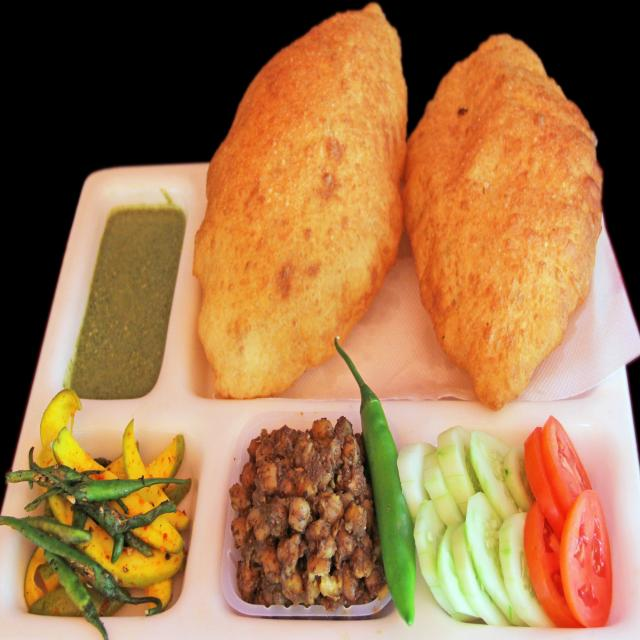Bhatura: (197, 3, 407, 400), (404, 34, 604, 411)
